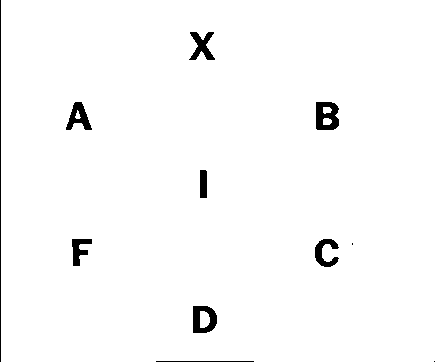I: (191, 163, 217, 206)
